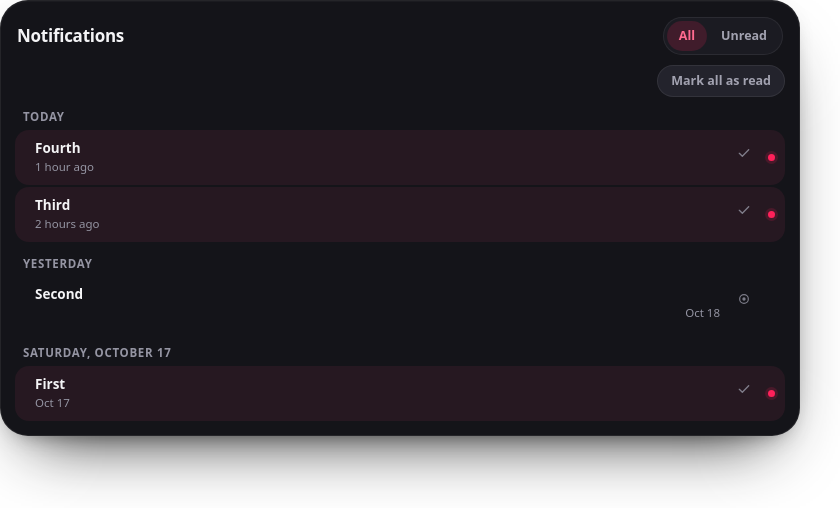
Test: the default animation kit › does not play a cascade when a bulk action empties the unread selection
The width and height of the screenshot is (840, 508).
Expected: the text "Fourth" is shown, [35, 139, 80, 157]
Click the button "Unread" at (744,36), box [709, 21, 779, 51]
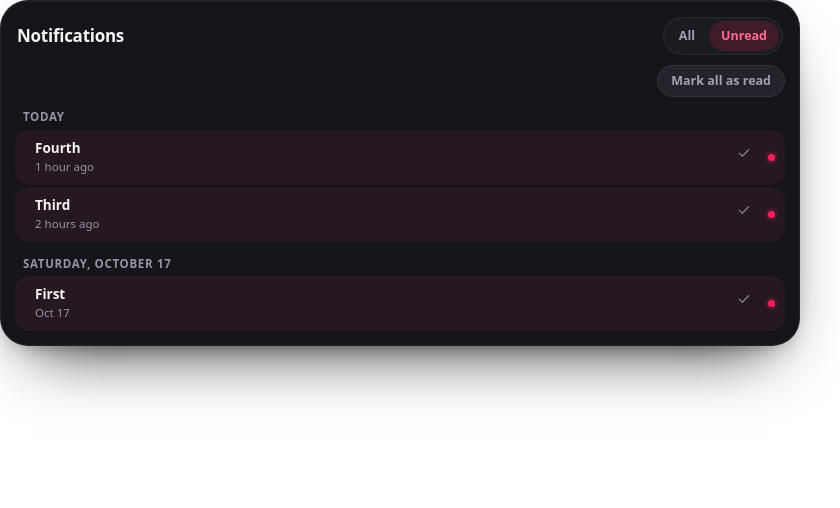
Result: the text "Second" is gone
Click the button "Mark all as read" at (721,81), box [657, 65, 785, 97]
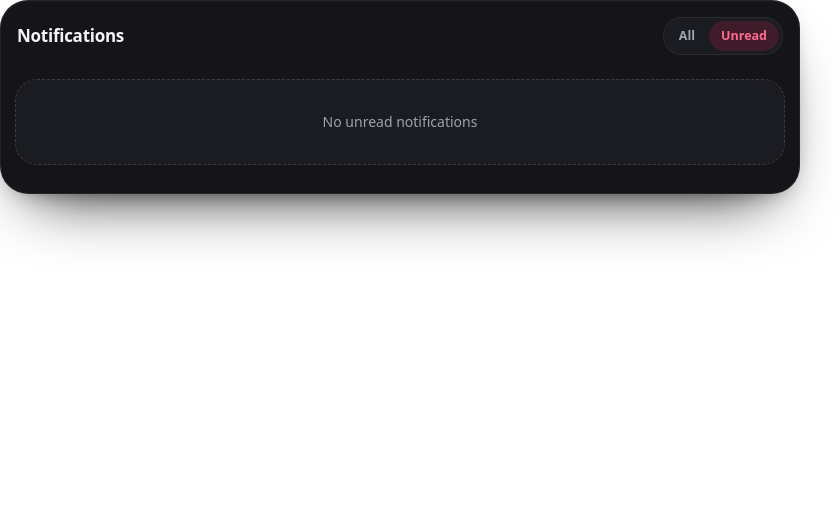
Result: the button "Fourth" is gone
